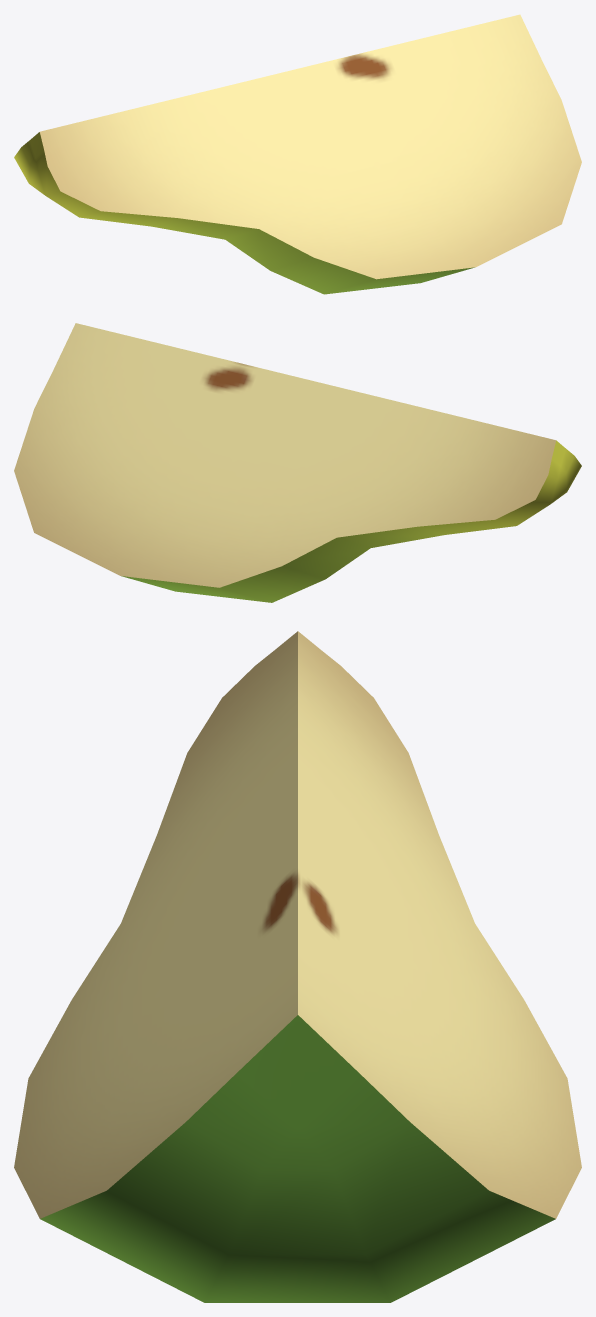
The model's file is Pear_Slice_02.glb.
The picture shows the model from 3 angles, top to bottom: view 1: azimuth 30°, elevation 25°; view 2: azimuth 150°, elevation 25°; view 3: azimuth 270°, elevation 25°; orthographic projection. The views are drawn at different scales.
Parts seen in each view (by area): view 1: Pear_Slice_02; view 2: Pear_Slice_02; view 3: Pear_Slice_02.
Boxes of the visible parts, <box> form: Pear_Slice_02: <box>14,14,581,294</box>; Pear_Slice_02: <box>14,323,581,602</box>; Pear_Slice_02: <box>14,631,581,1302</box>.
Bounding box in the file's own units: 0.291 × 0.1203 × 0.1771.
Materials: 1 (1 with a texture image).
